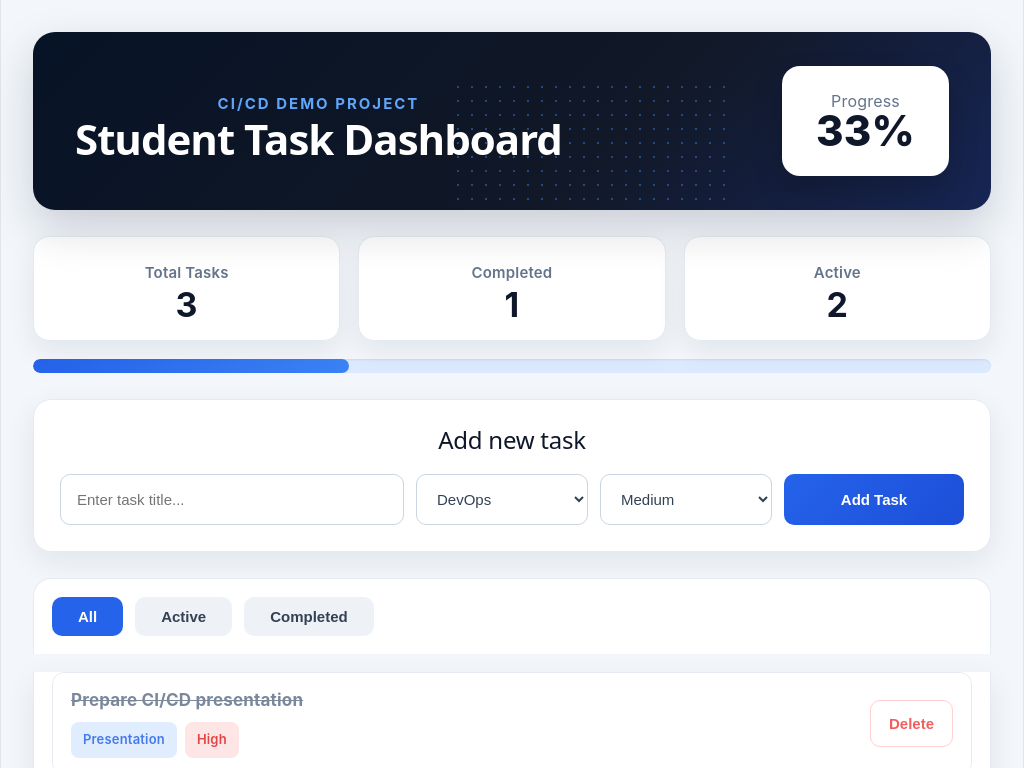
Test case: adds a new task
In the field with placeholder "Enter task title...": [232, 500] box left=60, top=474, right=404, bottom=525, type "Finish CI/CD project"
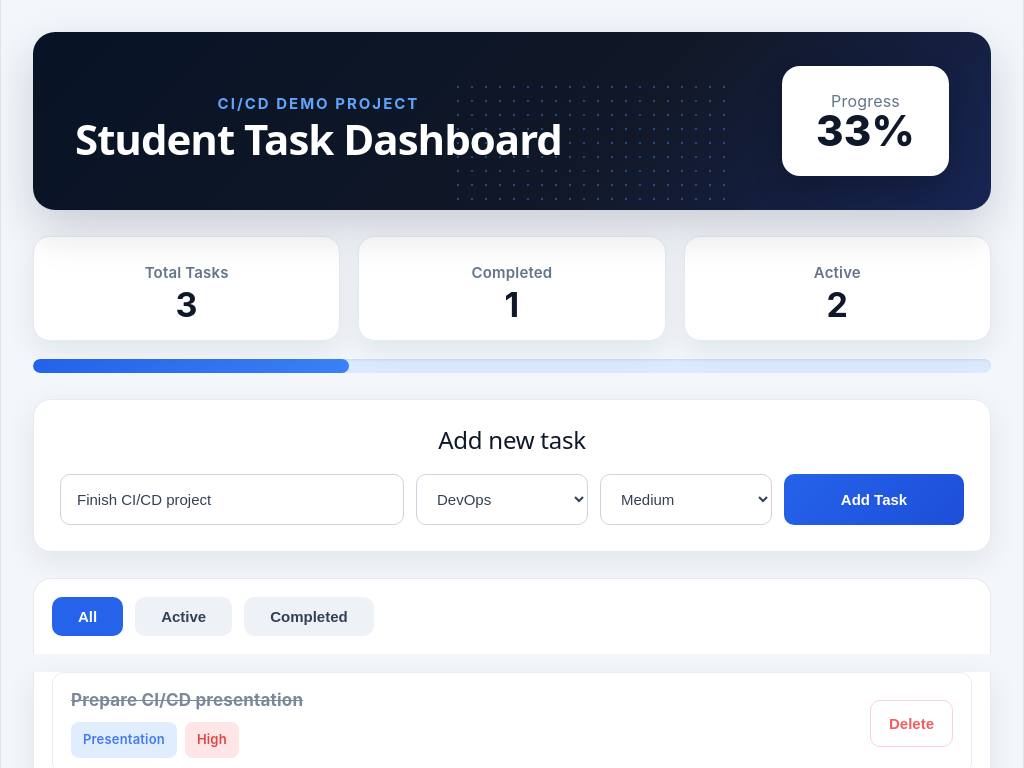
Click the button "Add Task": [874, 500] box left=784, top=474, right=964, bottom=525
(page scrolled)
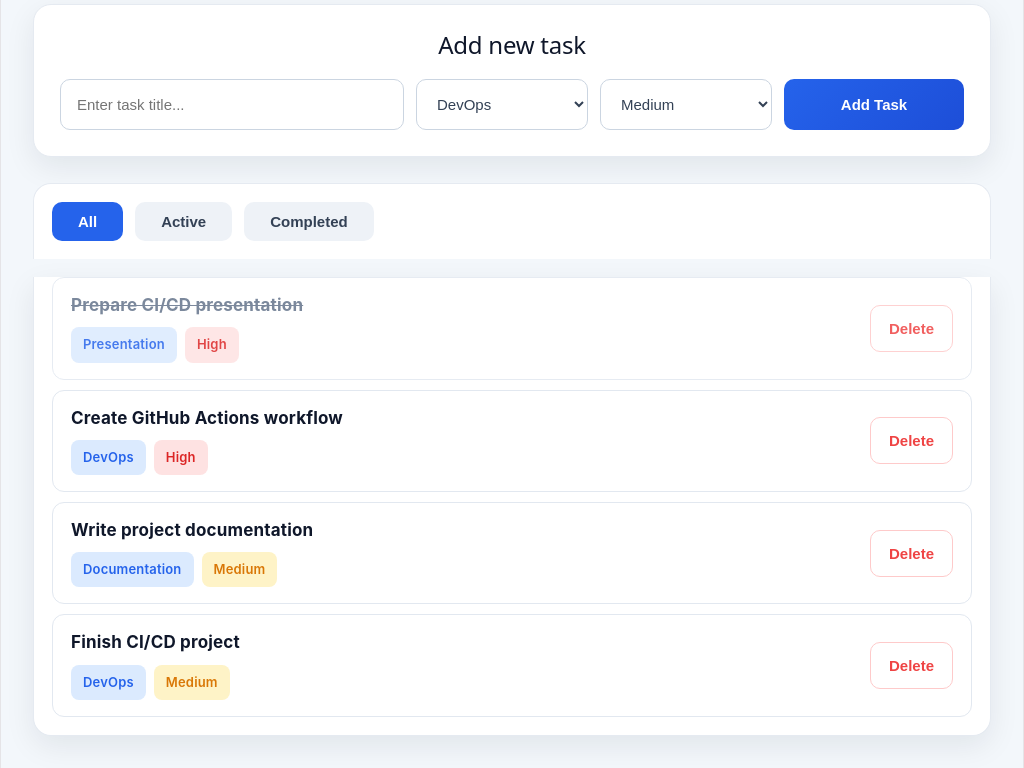
Expected: the heading "Finish CI/CD project" is shown, left=71, top=631, right=240, bottom=654
